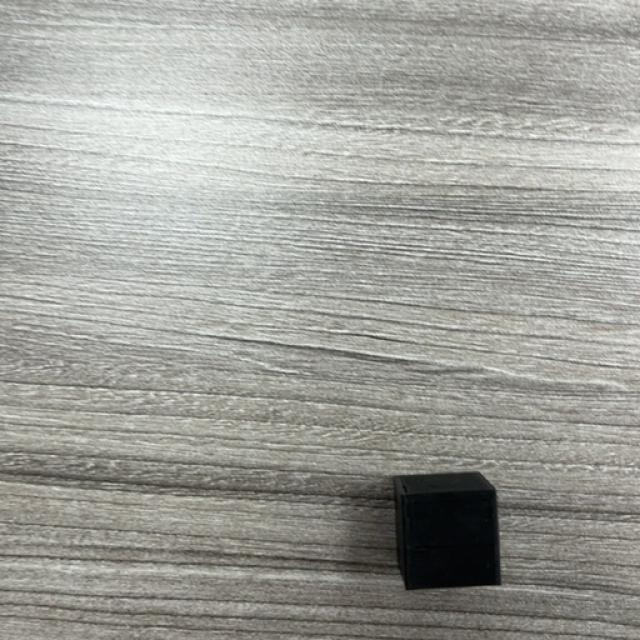Negro: (392, 472, 502, 592)
